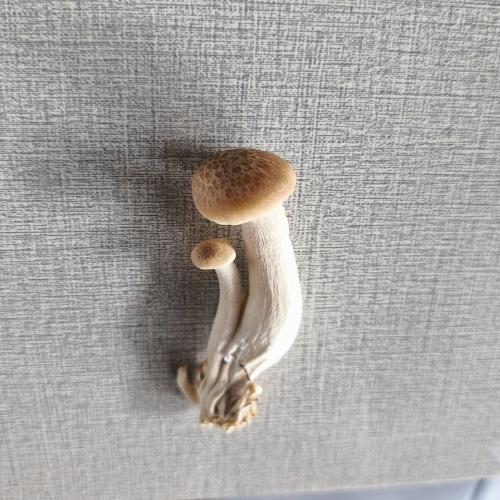Enoki Mushroom: (175, 146, 307, 433)
